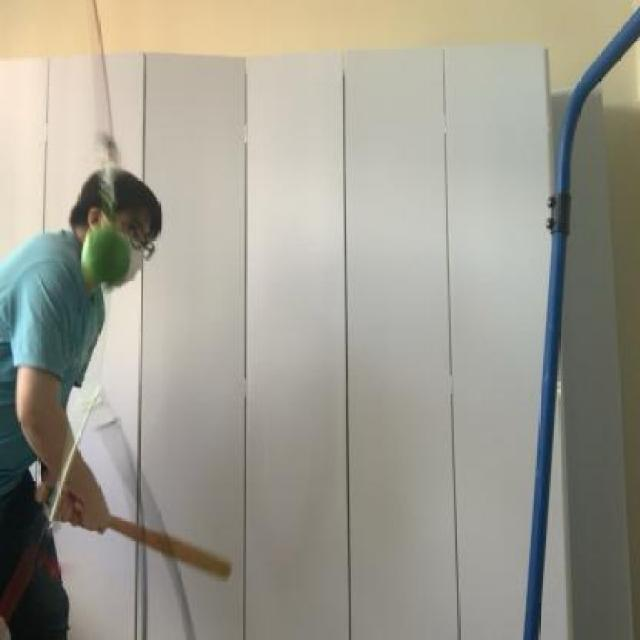baseball: (84, 223, 134, 291)
